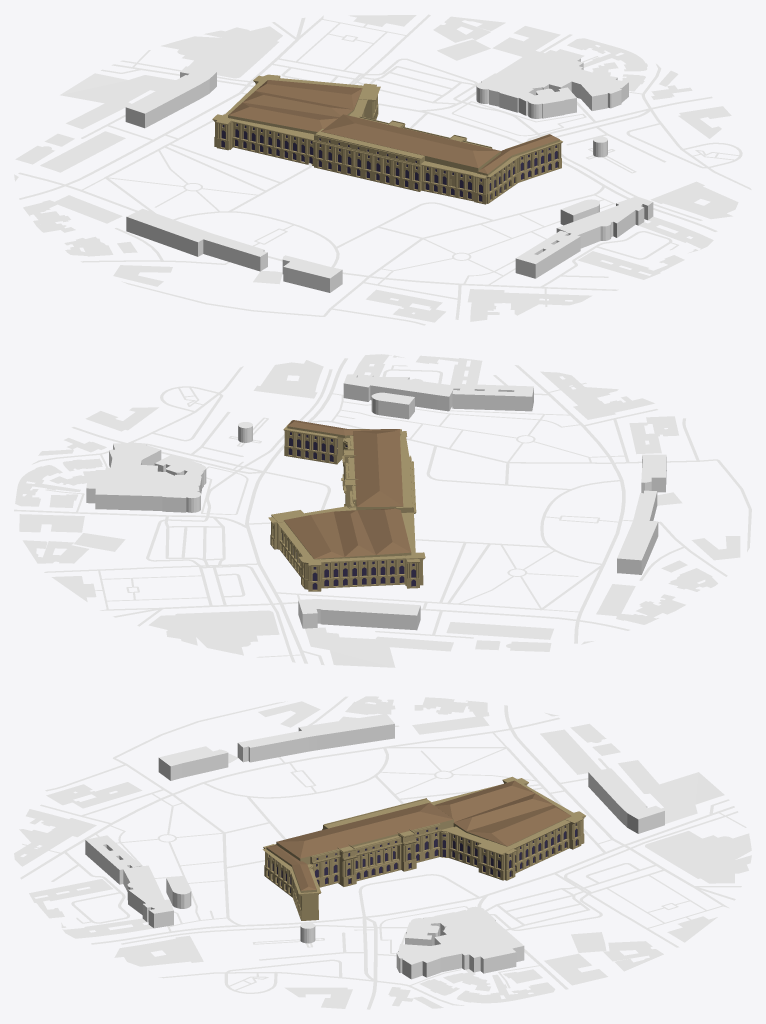
The model's file is bucarest_palais_royal.glb.
3 renders of one model, top to bottom at view 1: azimuth 30°, elevation 25°; view 2: azimuth 150°, elevation 25°; view 3: azimuth 270°, elevation 25°, orthographic.
Parts seen in each view (by area): view 1: city-flat-bordeaux, Palais de Bucarest, city-bordeaux; view 2: city-flat-bordeaux, city-bordeaux, Palais de Bucarest; view 3: city-flat-bordeaux, Palais de Bucarest, city-bordeaux.
Part boxes in pixels (box(x1,y1,x2,y2)): city-flat-bordeaux: box(14, 14, 751, 325); Palais de Bucarest: box(212, 74, 562, 204); city-bordeaux: box(125, 50, 653, 292); city-flat-bordeaux: box(14, 354, 751, 667); city-bordeaux: box(86, 374, 666, 630); Palais de Bucarest: box(268, 420, 425, 591); city-flat-bordeaux: box(14, 696, 751, 1009); Palais de Bucarest: box(262, 776, 585, 920); city-bordeaux: box(85, 714, 664, 979).
Size of the model in its own units: 1.15 by 0.067 by 1.14.
